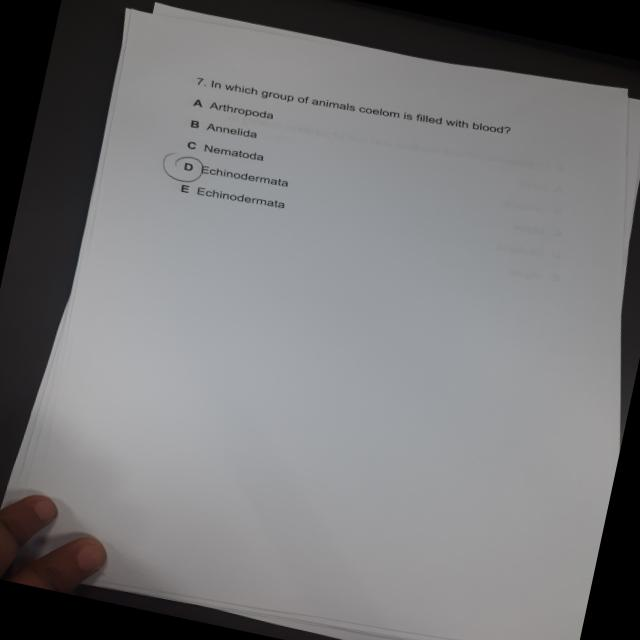D: (159, 149, 210, 187)
